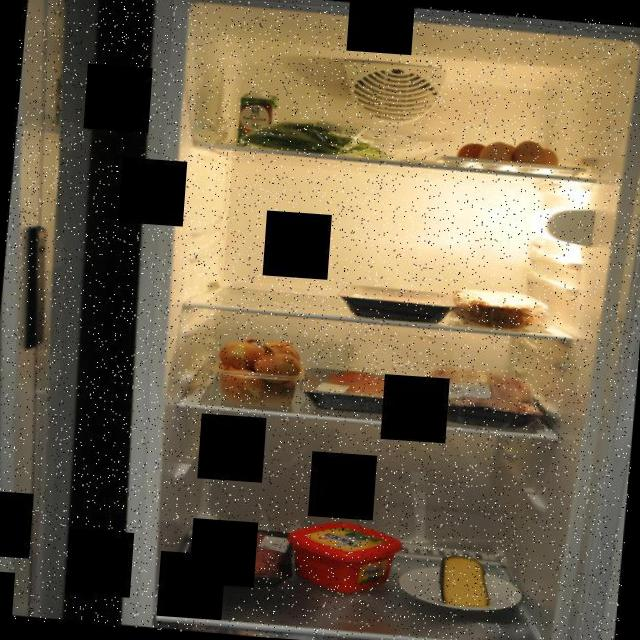Carne pollo: (417, 354, 554, 434), (336, 282, 457, 326)
Carne vacuno: (181, 522, 297, 594), (296, 366, 419, 418)
Cebolla: (214, 333, 304, 406)
Huevos: (450, 133, 560, 173)
Mantequilla: (282, 512, 404, 600)
Queso: (433, 552, 495, 610)
bread: (449, 284, 548, 333)
green_beans: (237, 112, 398, 160)
heavy_cream: (232, 84, 282, 150)
